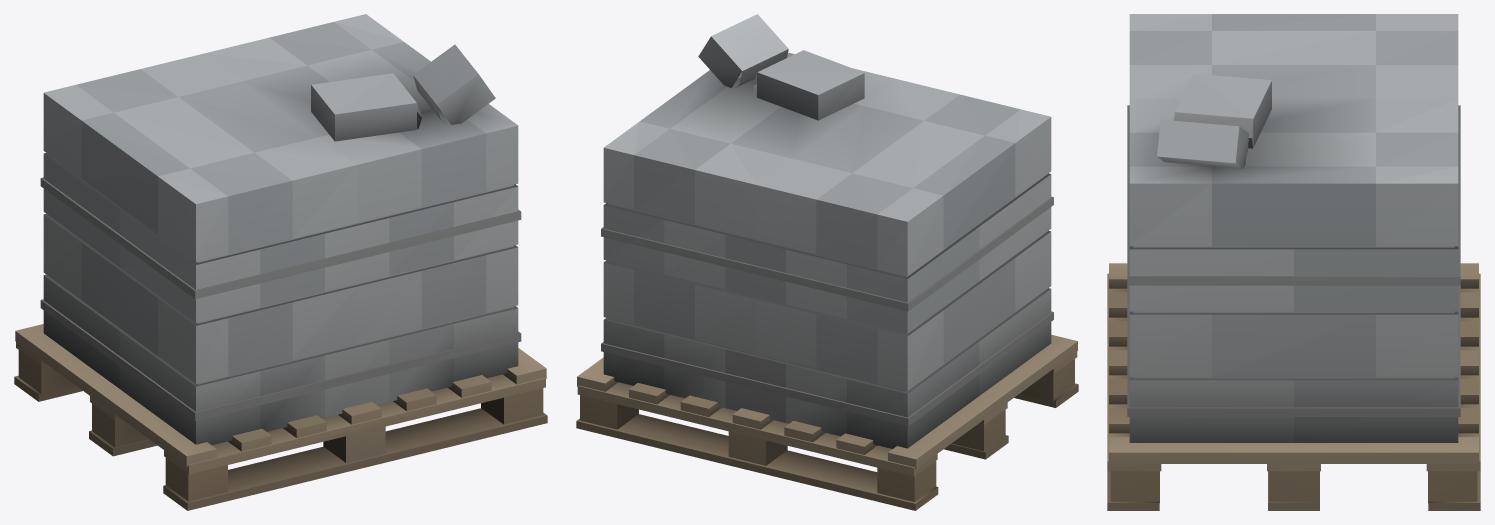
The model's file is pallet.glb.
3 renders of one model, left to right at view 1: azimuth 30°, elevation 25°; view 2: azimuth 150°, elevation 25°; view 3: azimuth 270°, elevation 25°, orthographic. The views are drawn at different scales.
Parts seen in each view (by area): view 1: pallet.001; view 2: pallet.001; view 3: pallet.001.
Part boxes in pixels (box(x1,y1,x2,y2)): pallet.001: box(14, 14, 547, 510); pallet.001: box(576, 14, 1078, 510); pallet.001: box(1107, 14, 1480, 510).
Size of the model in its own units: 1.2 by 1.09 by 1.
